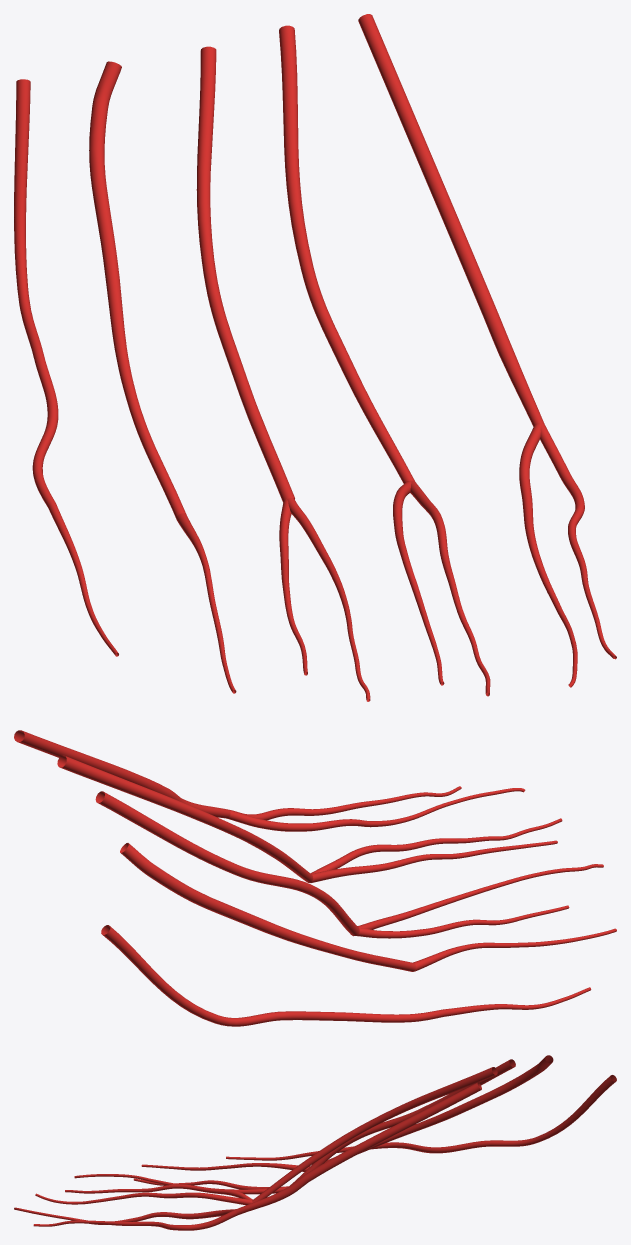
Rendered from circulatorio-dorsal-metatarsal-veins-r.glb.
The picture shows the model from 3 angles, top to bottom: view 1: azimuth 30°, elevation 25°; view 2: azimuth 150°, elevation 25°; view 3: azimuth 270°, elevation 25°; orthographic projection. The views are drawn at different scales.
Visible parts, largest first — view 1: Dorsal metatarsal veins.r, Dorsal digital veins of foot.r; view 2: Dorsal metatarsal veins.r, Dorsal digital veins of foot.r; view 3: Dorsal metatarsal veins.r, Dorsal digital veins of foot.r.
Part boxes in pixels (x1=…): Dorsal metatarsal veins.r: x1=14, y1=14, x2=544, y2=519; Dorsal digital veins of foot.r: x1=48, y1=423, x2=616, y2=701; Dorsal metatarsal veins.r: x1=14, y1=730, x2=446, y2=1026; Dorsal digital veins of foot.r: x1=226, y1=786, x2=616, y2=1016; Dorsal metatarsal veins.r: x1=236, y1=1055, x2=616, y2=1214; Dorsal digital veins of foot.r: x1=14, y1=1146, x2=353, y2=1230.
Bounding box in the file's own units: 0.069 × 0.05 × 0.1324.
